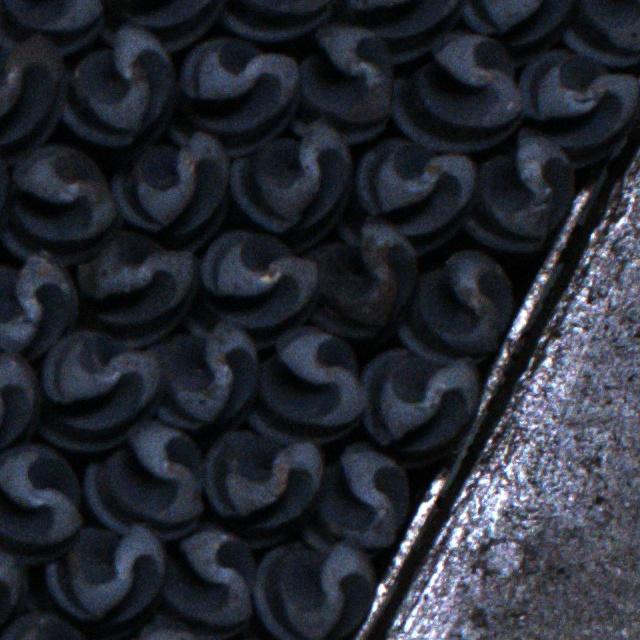tool_b: (230, 122, 353, 255), (165, 35, 299, 156), (339, 138, 477, 255), (180, 230, 316, 347), (393, 33, 524, 152), (33, 328, 158, 450), (62, 22, 177, 154), (112, 133, 232, 253), (0, 146, 119, 267), (514, 47, 637, 164), (361, 350, 479, 470), (84, 422, 205, 539), (204, 431, 324, 548), (299, 220, 416, 340), (46, 523, 166, 639), (76, 232, 198, 346), (250, 324, 367, 442), (466, 130, 576, 253), (144, 315, 260, 430), (395, 248, 512, 360), (297, 443, 408, 555), (291, 23, 394, 142), (256, 541, 378, 640), (158, 526, 255, 638), (1, 443, 85, 561), (0, 244, 77, 356), (0, 24, 61, 162), (336, 0, 466, 61), (459, 0, 575, 64), (94, 0, 222, 49), (0, 0, 107, 51), (215, 0, 342, 41), (564, 0, 640, 65), (0, 340, 38, 462), (0, 528, 27, 634), (0, 614, 92, 640)
